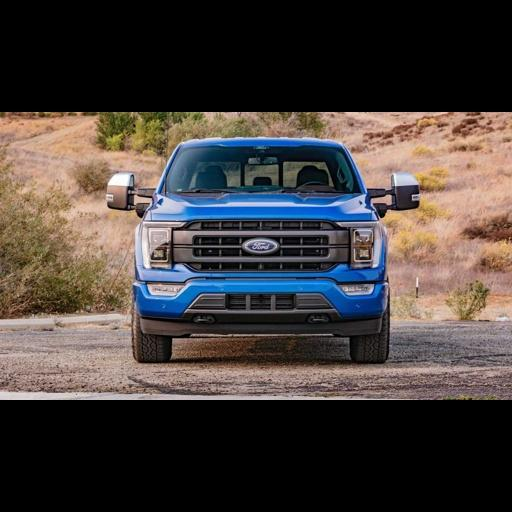truck: (106, 137, 419, 361)
